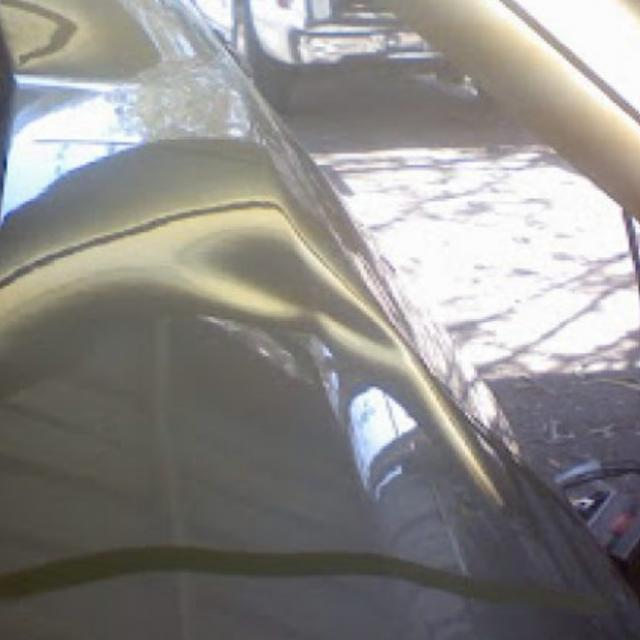dents: (198, 230, 389, 352)
